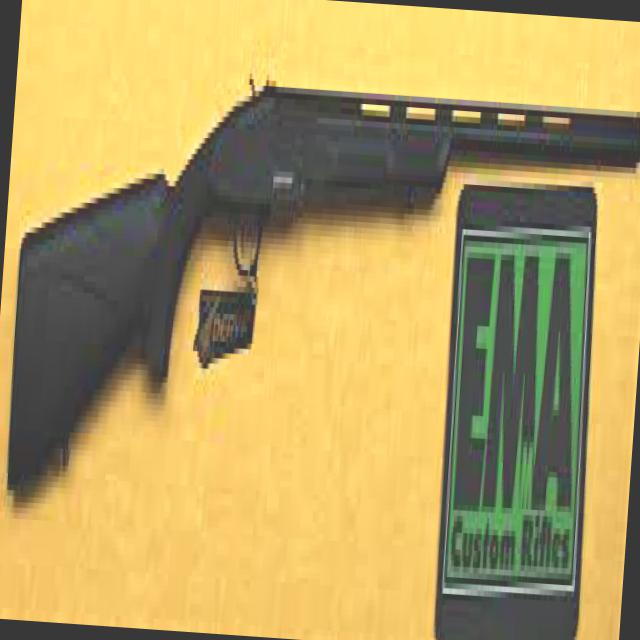long weapon: (0, 49, 640, 507)
